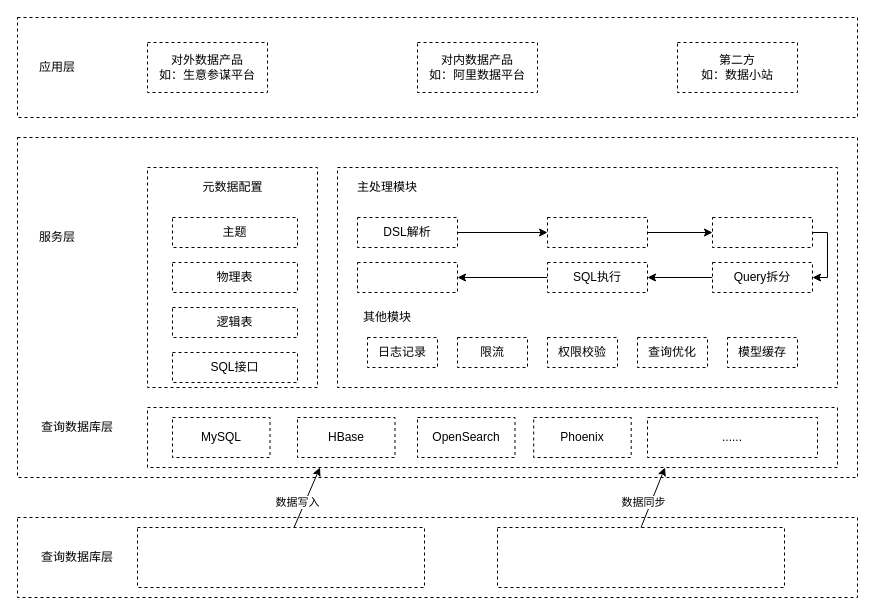
The diagram is 875 pixels wide and 615 high, and some of its shapes have lost their labels. The shapes that lost their labels are listed below. From the top down, each one's centre as x and y in pixels, then its label:
At pixel 597 232: "逻辑Query".
At pixel 762 232: "物理Query".
At pixel 407 277: "结果合并".
At pixel 280 557: "OneDate-集团数据公共层（实时）".
At pixel 640 557: "OneData-集团数据公共层（离线）".
